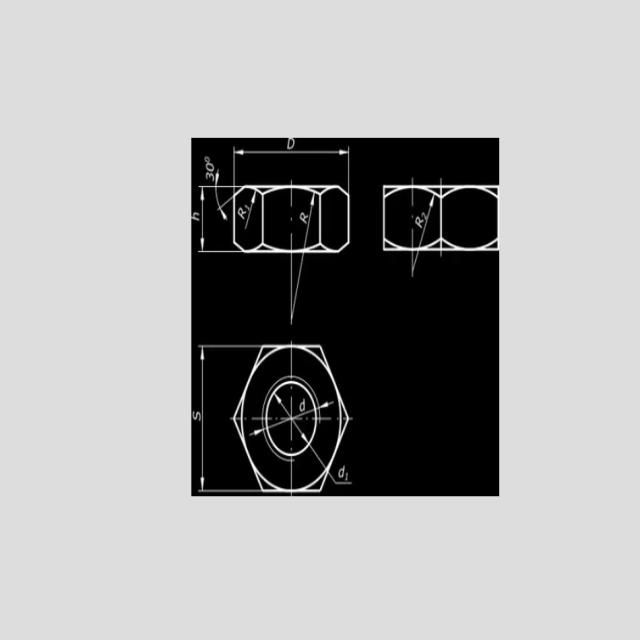marking_line: (195, 341, 232, 491), (232, 147, 351, 186), (196, 184, 234, 255), (275, 394, 308, 443), (197, 472, 253, 496), (215, 169, 233, 221), (199, 343, 255, 359), (302, 195, 317, 246), (421, 196, 436, 240), (244, 191, 258, 229)
numeric: (206, 163, 216, 173), (205, 173, 215, 181), (205, 156, 211, 164)
